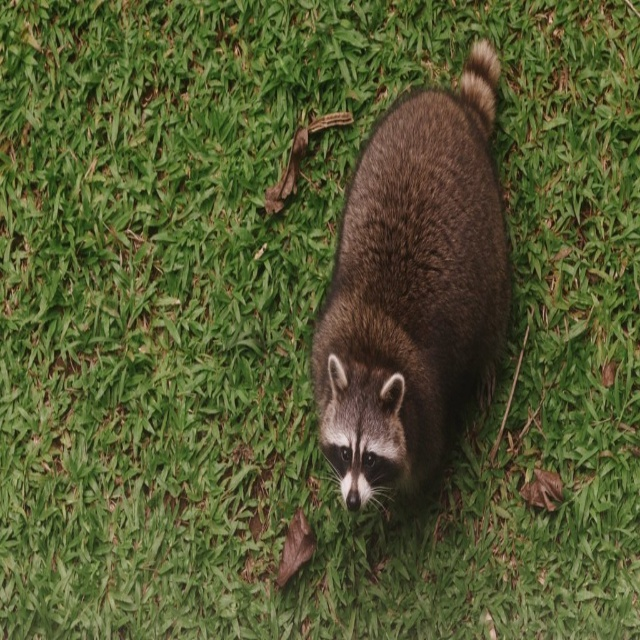Raccoon: (312, 33, 513, 523)
